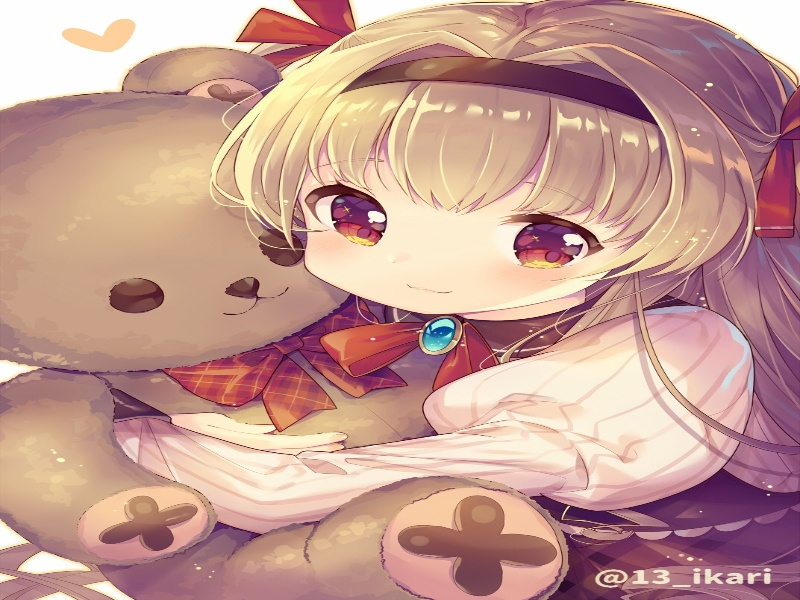person: (274, 51, 702, 353)
